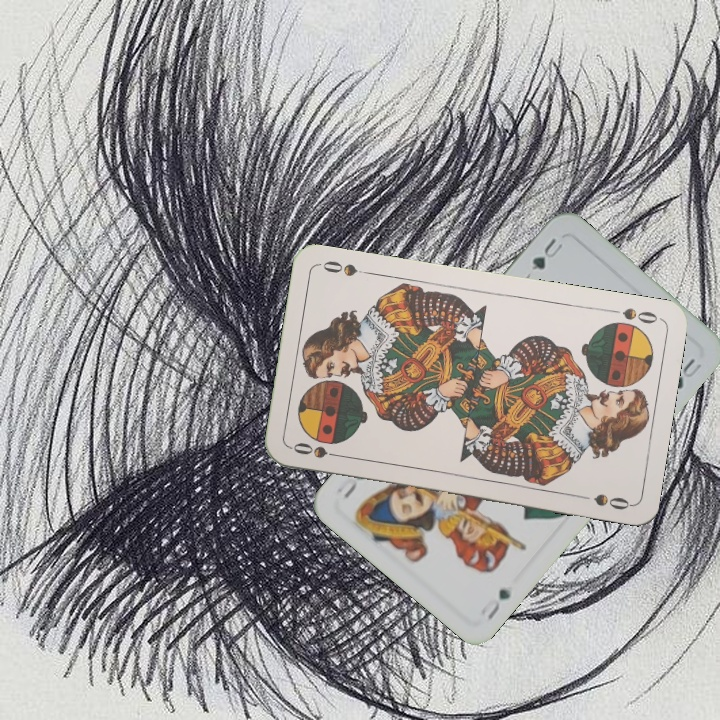GU: (527, 233, 567, 273), (479, 584, 515, 623)
SO: (288, 438, 347, 461), (604, 303, 663, 326)
